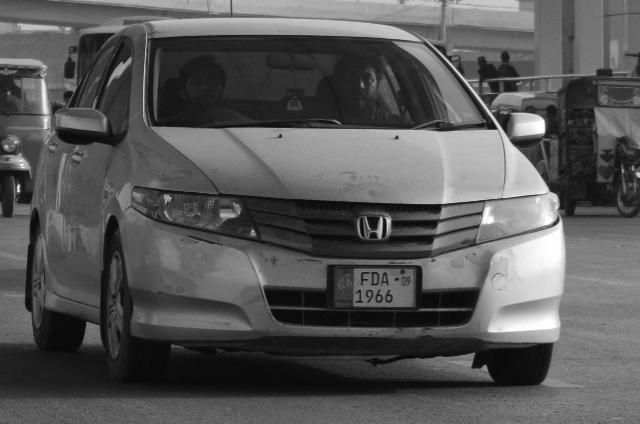Number: (354, 272, 398, 304)
